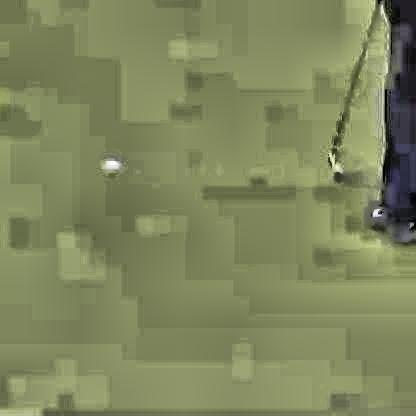golfball: (98, 156, 118, 174)
